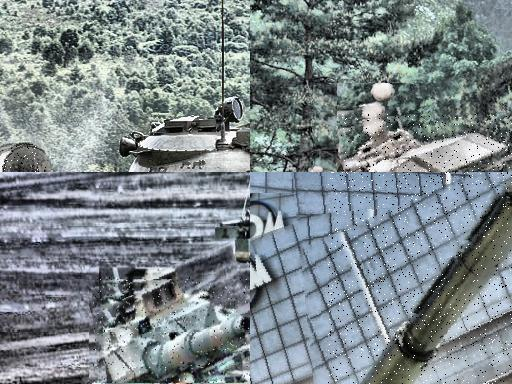tanks: (355, 192, 512, 384), (94, 278, 251, 384), (342, 116, 512, 173), (121, 101, 251, 173), (217, 214, 251, 277), (1, 147, 51, 173), (315, 169, 322, 173)
